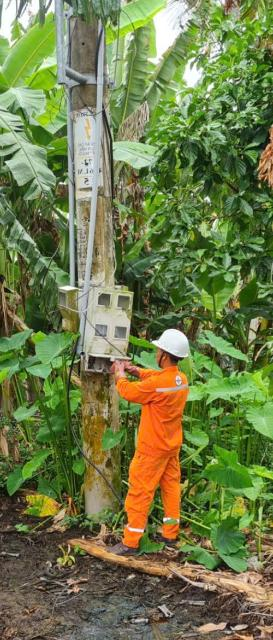gloves: (112, 352, 147, 377), (109, 362, 126, 380)
helmet: (142, 325, 203, 363)
shoes: (99, 532, 143, 562), (143, 521, 182, 552)
